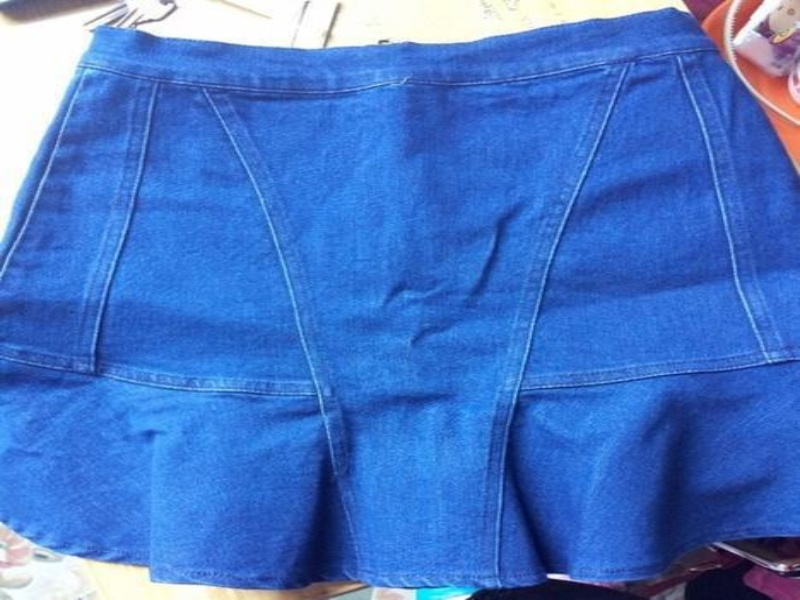skirt: (2, 7, 798, 594)
